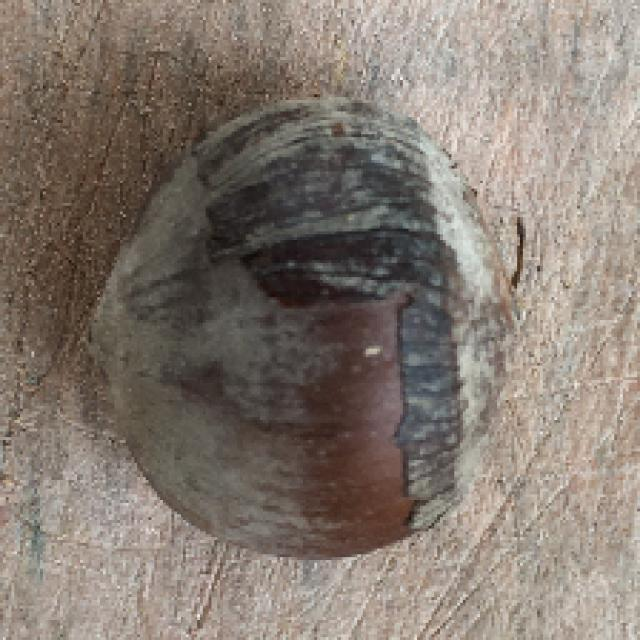damagedHazelnut: (92, 88, 527, 568)
